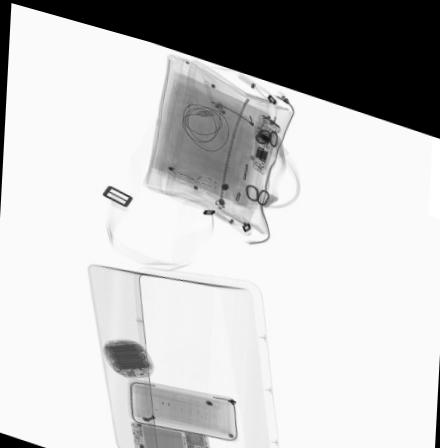Powerbank: (100, 332, 155, 371)
